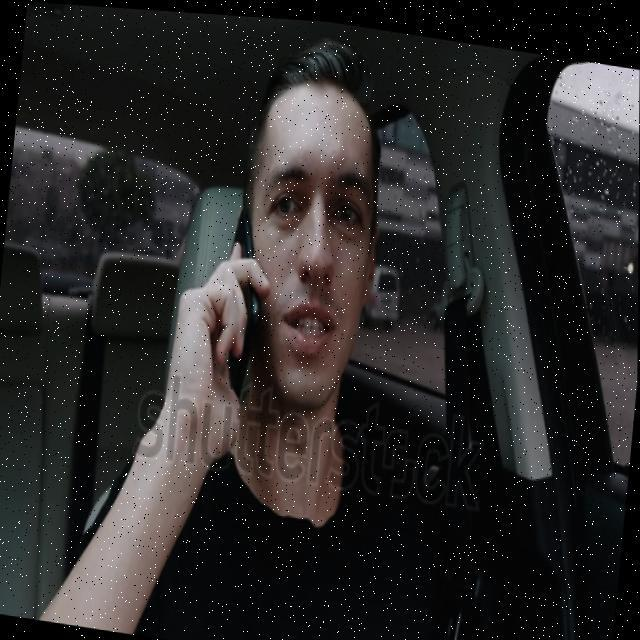PhoneCall: (214, 202, 270, 394)
